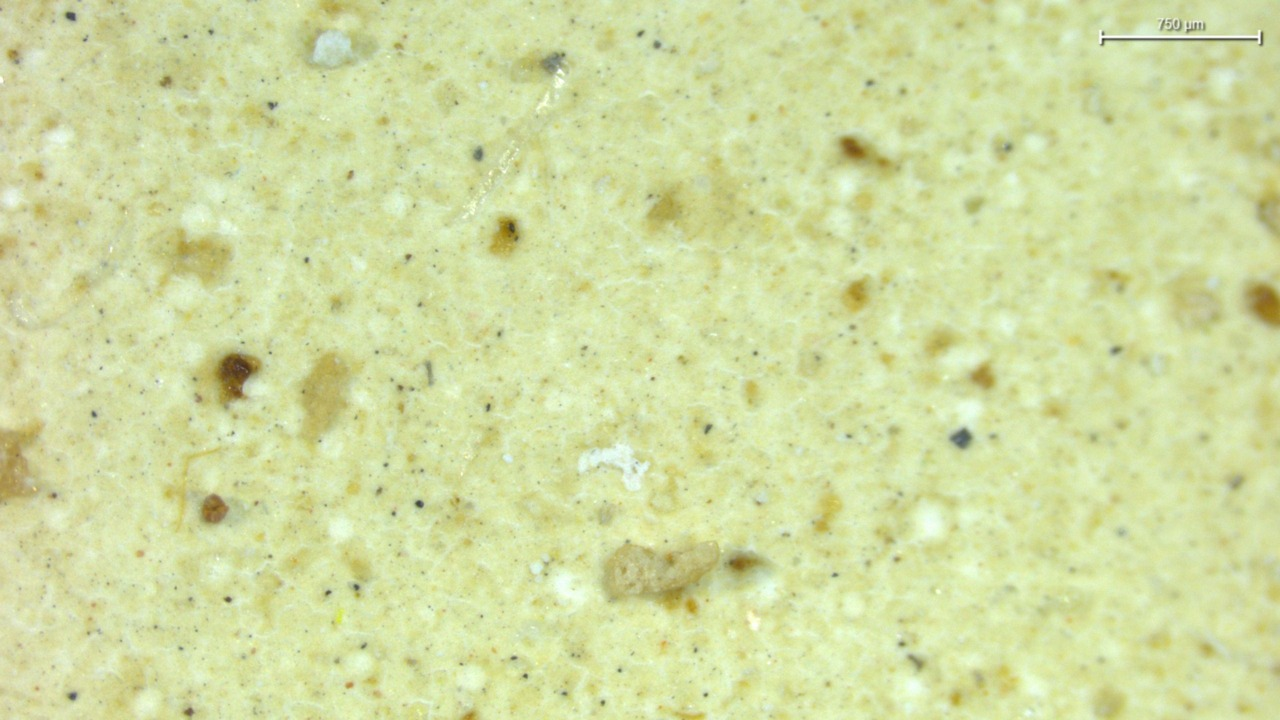microplastic_fragment: (604, 541, 720, 600), (308, 26, 358, 70)
